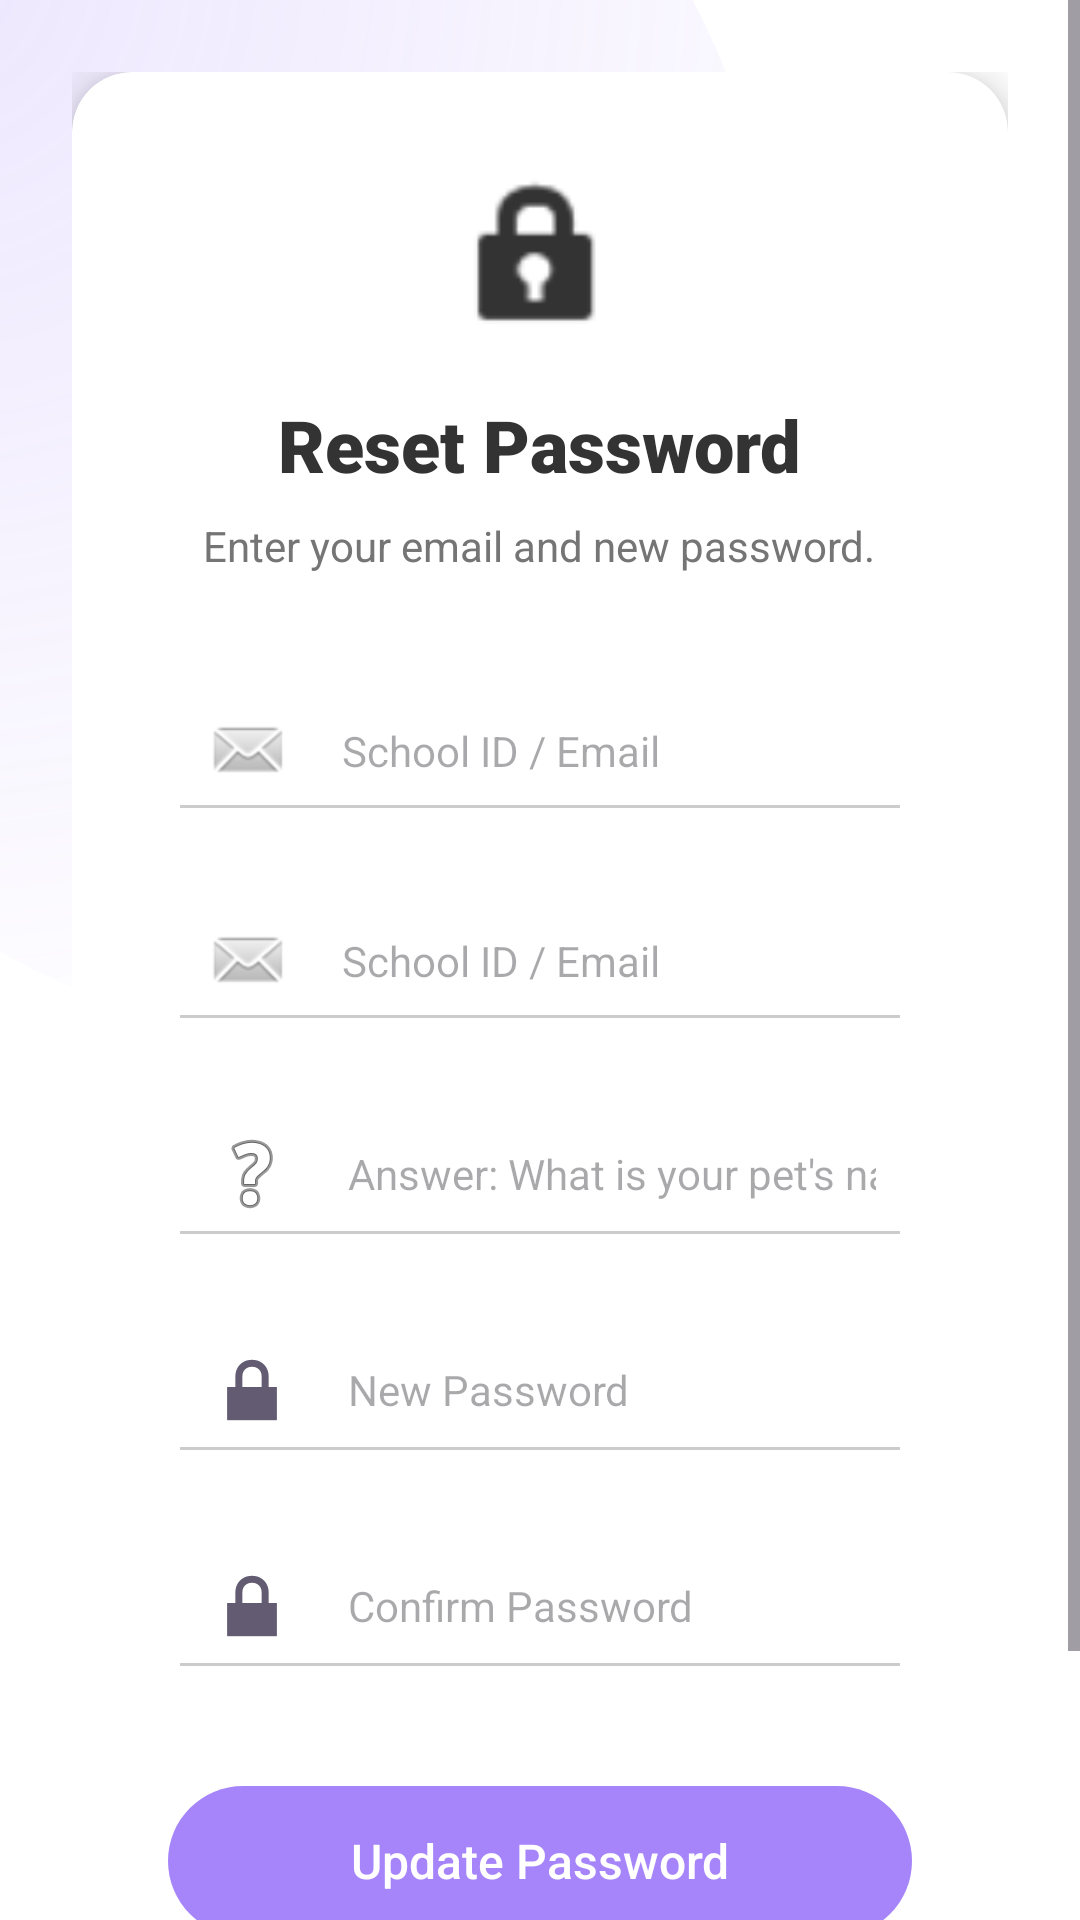

Where icons sit on this 1080*1920 app screen, as [x1,y1,x2,y2]:
lock idle: [477,183,595,321]
